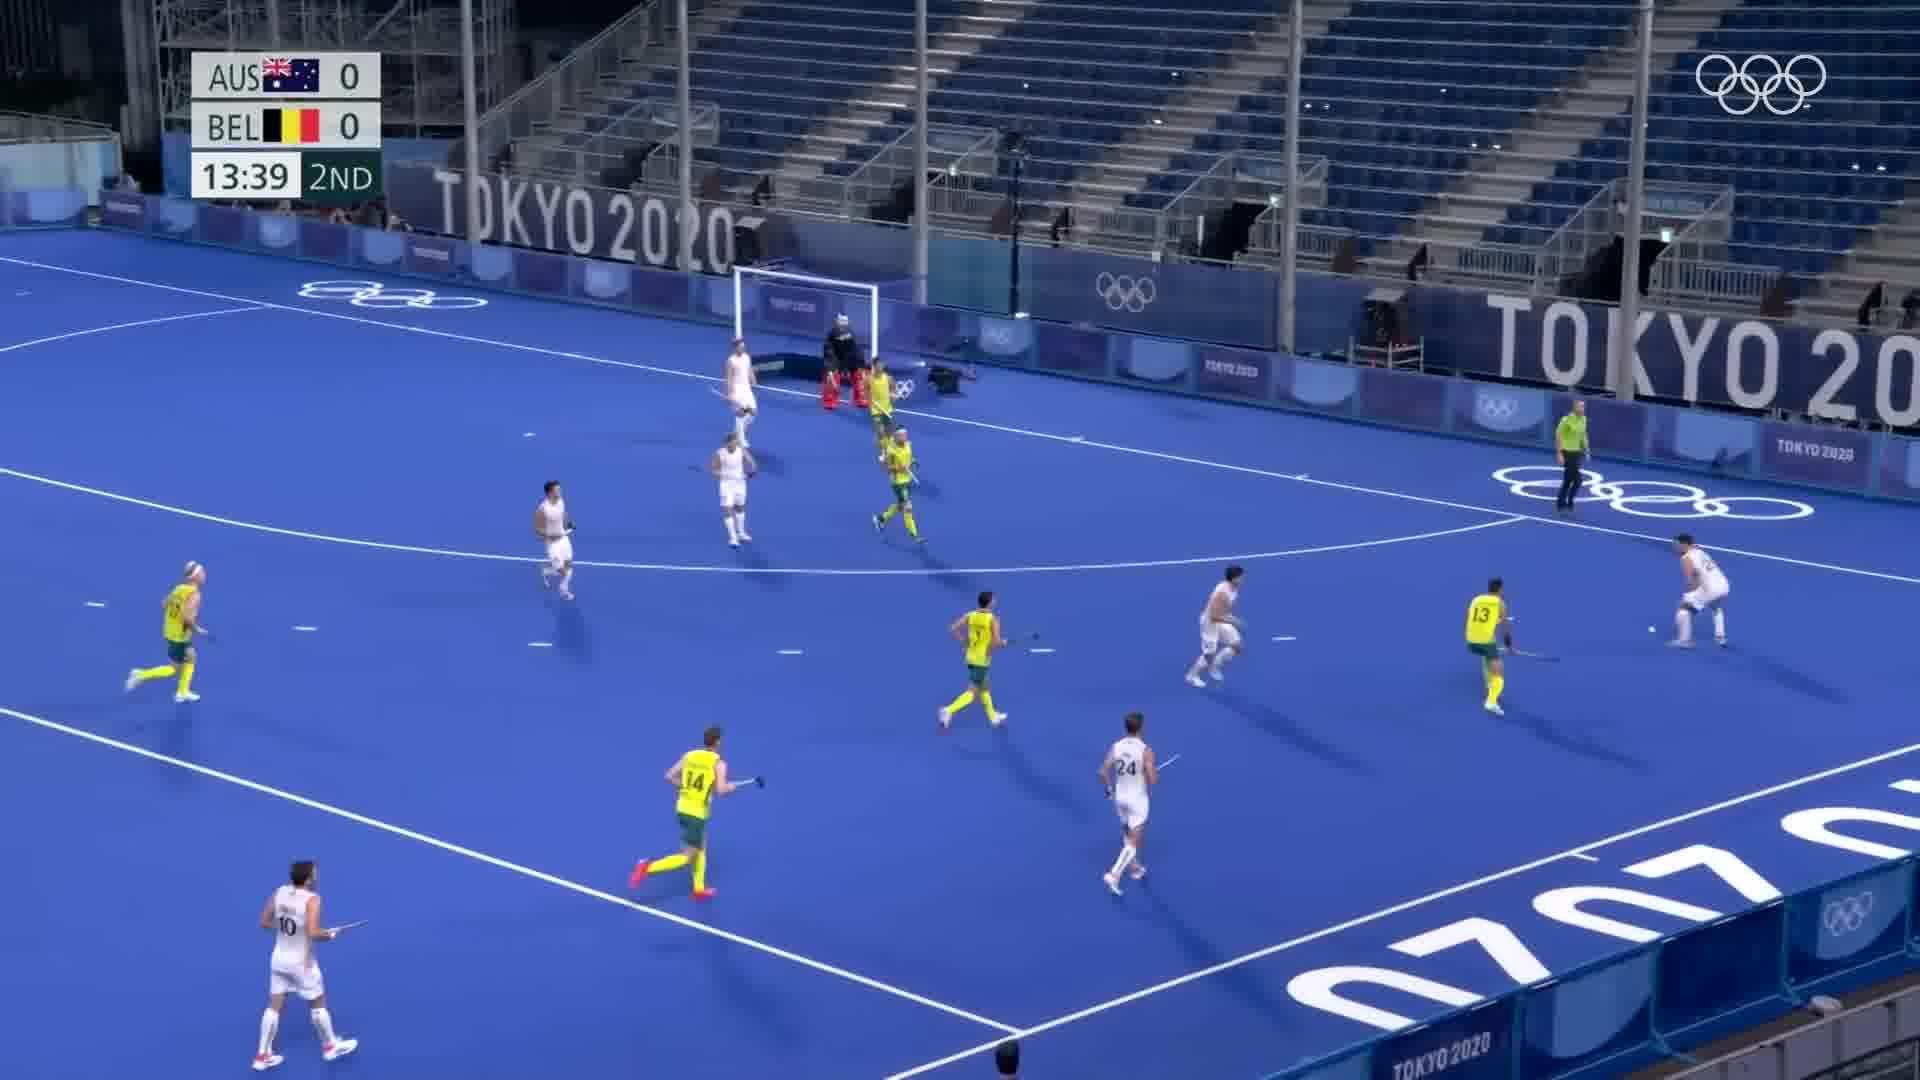ball: (1640, 618, 1659, 637)
